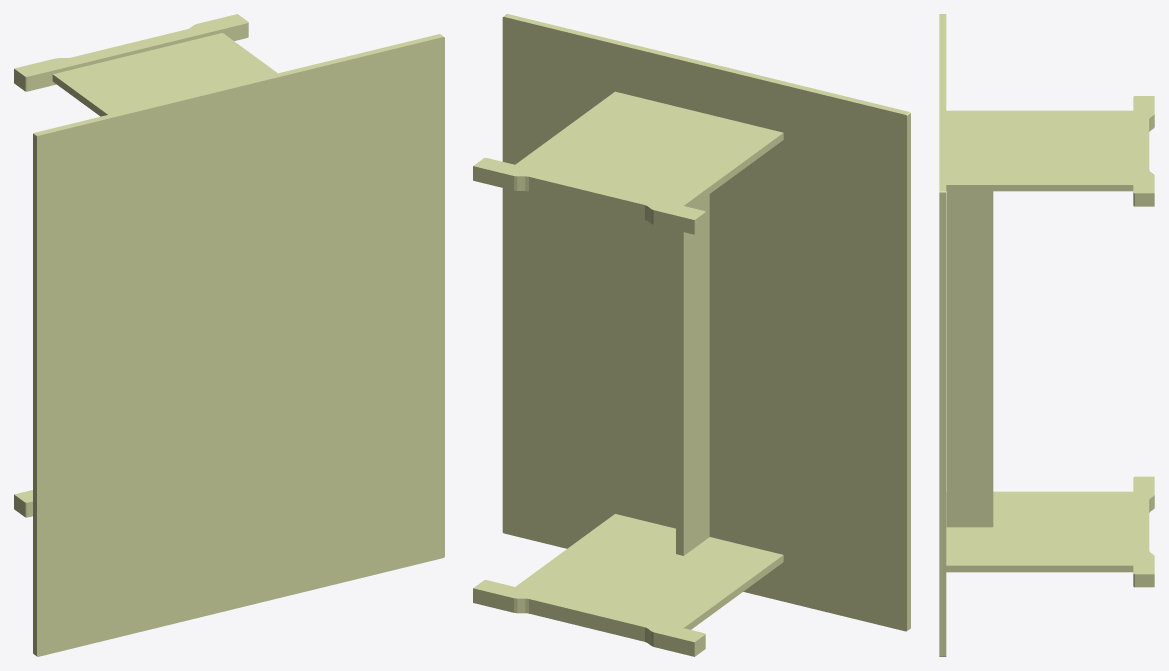
File: table.dae
3 renders of one model, left to right at view 1: azimuth 30°, elevation 25°; view 2: azimuth 150°, elevation 25°; view 3: azimuth 270°, elevation 25°, orthographic. The views are drawn at different scales.
Visible parts, largest first — view 1: BOADTAB01; view 2: BOADTAB01; view 3: BOADTAB01.
Part boxes in pixels (bbox=[...]): BOADTAB01: bbox=[14, 14, 444, 656]; BOADTAB01: bbox=[473, 14, 910, 656]; BOADTAB01: bbox=[939, 14, 1154, 656].
Size of the model in its own units: 1.37 by 0.6995 by 1.67.
